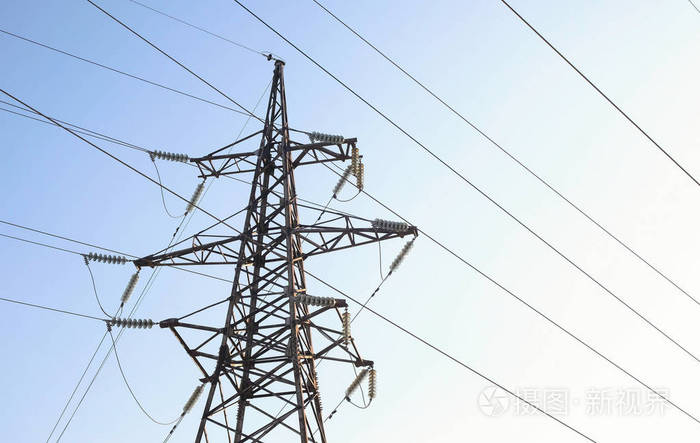insulator: (388, 241, 412, 272), (183, 184, 206, 213), (350, 147, 365, 190), (111, 316, 153, 331), (375, 216, 409, 234), (295, 293, 336, 307), (151, 149, 188, 164), (333, 165, 351, 195), (308, 130, 344, 145), (182, 385, 201, 413), (90, 251, 127, 265), (346, 370, 366, 394), (340, 310, 354, 344), (122, 273, 137, 304), (366, 367, 377, 399)
